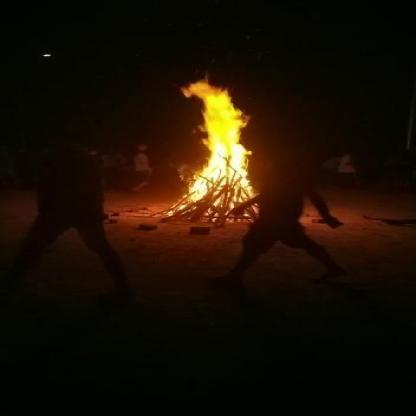fire: (165, 65, 266, 218)
